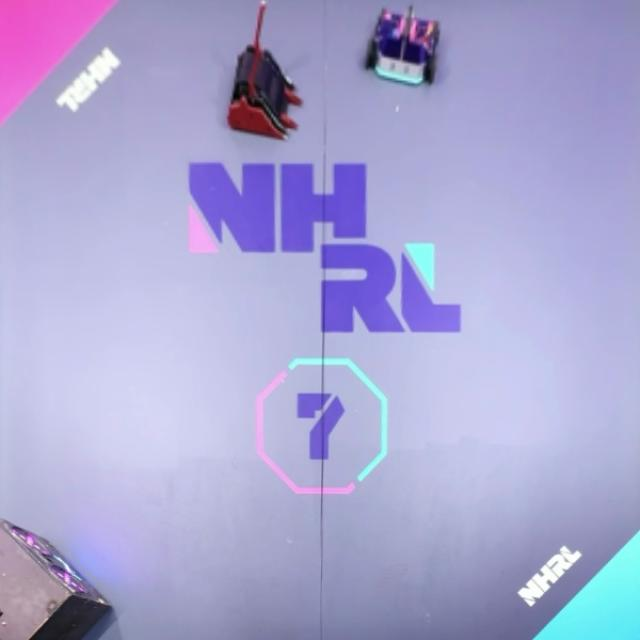housebot: (0, 518, 115, 640)
robot: (227, 2, 304, 142), (364, 4, 441, 86)
